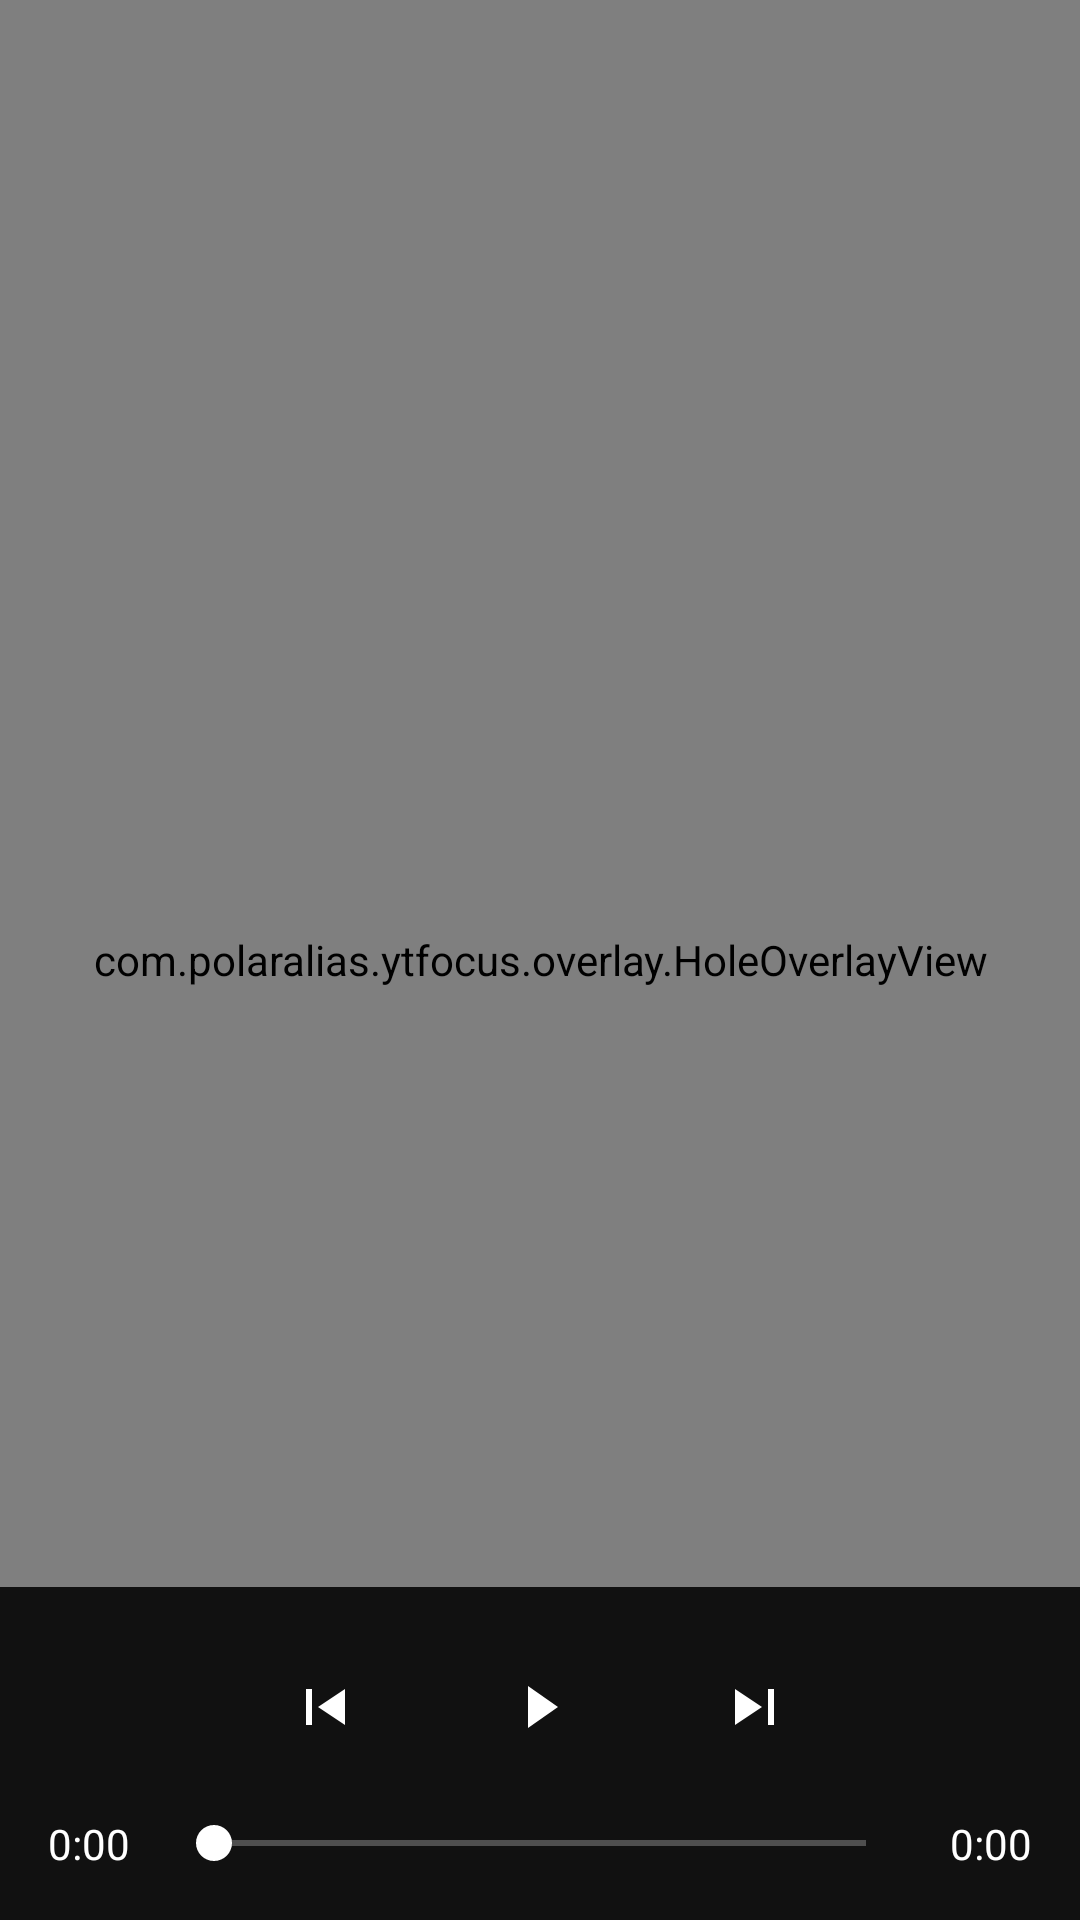

Icon bounding boxes for this 1080×1920 phone screenshot, format (x1, y1, x2, y2):
Next: (735, 1689, 774, 1725)
Play: (528, 1686, 558, 1728)
Previous: (306, 1689, 345, 1725)
